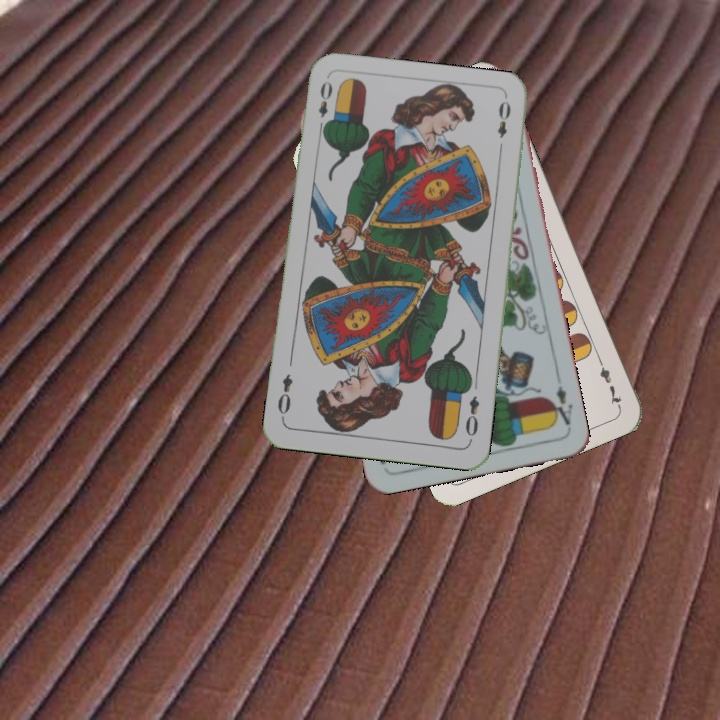E7: (593, 353, 625, 409)
EA: (546, 382, 575, 432)
EO: (314, 77, 335, 135), (461, 392, 483, 444)
